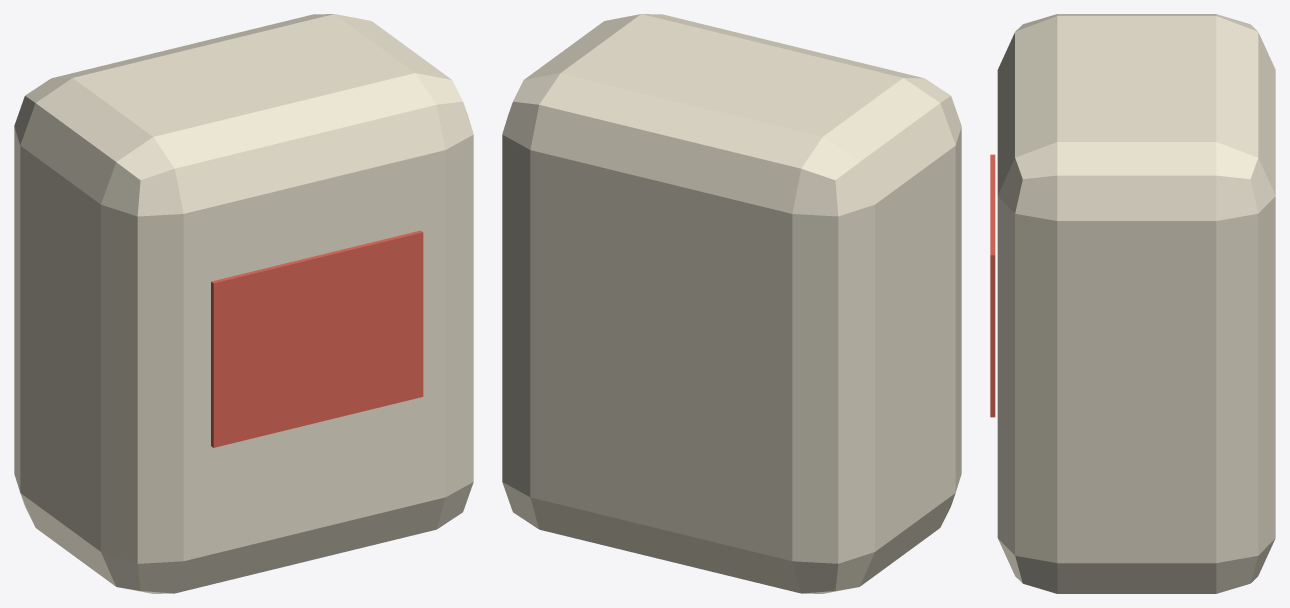
File: v2_rice_sack.fbx
The picture shows the model from 3 angles, left to right: view 1: azimuth 30°, elevation 25°; view 2: azimuth 150°, elevation 25°; view 3: azimuth 270°, elevation 25°; orthographic projection.
Visible parts, largest first — view 1: Sack, SackLabel; view 2: Sack; view 3: Sack, SackLabel.
Boxes of the visible parts, left/top/right/bottom form: Sack: left=14, top=14, right=473, bottom=593; SackLabel: left=211, top=230, right=423, bottom=447; Sack: left=502, top=14, right=961, bottom=593; Sack: left=997, top=14, right=1275, bottom=593; SackLabel: left=990, top=154, right=995, bottom=417.
Size of the model in its own units: 0.42 by 0.5 by 0.2875.
